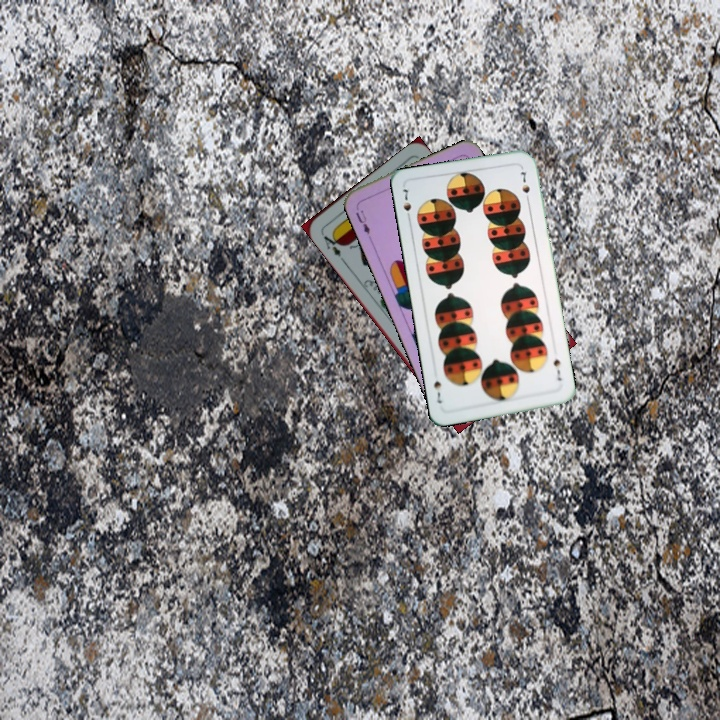EA: (319, 229, 347, 264)
EU: (352, 202, 373, 237)
S7: (399, 185, 414, 224), (549, 355, 564, 383)
